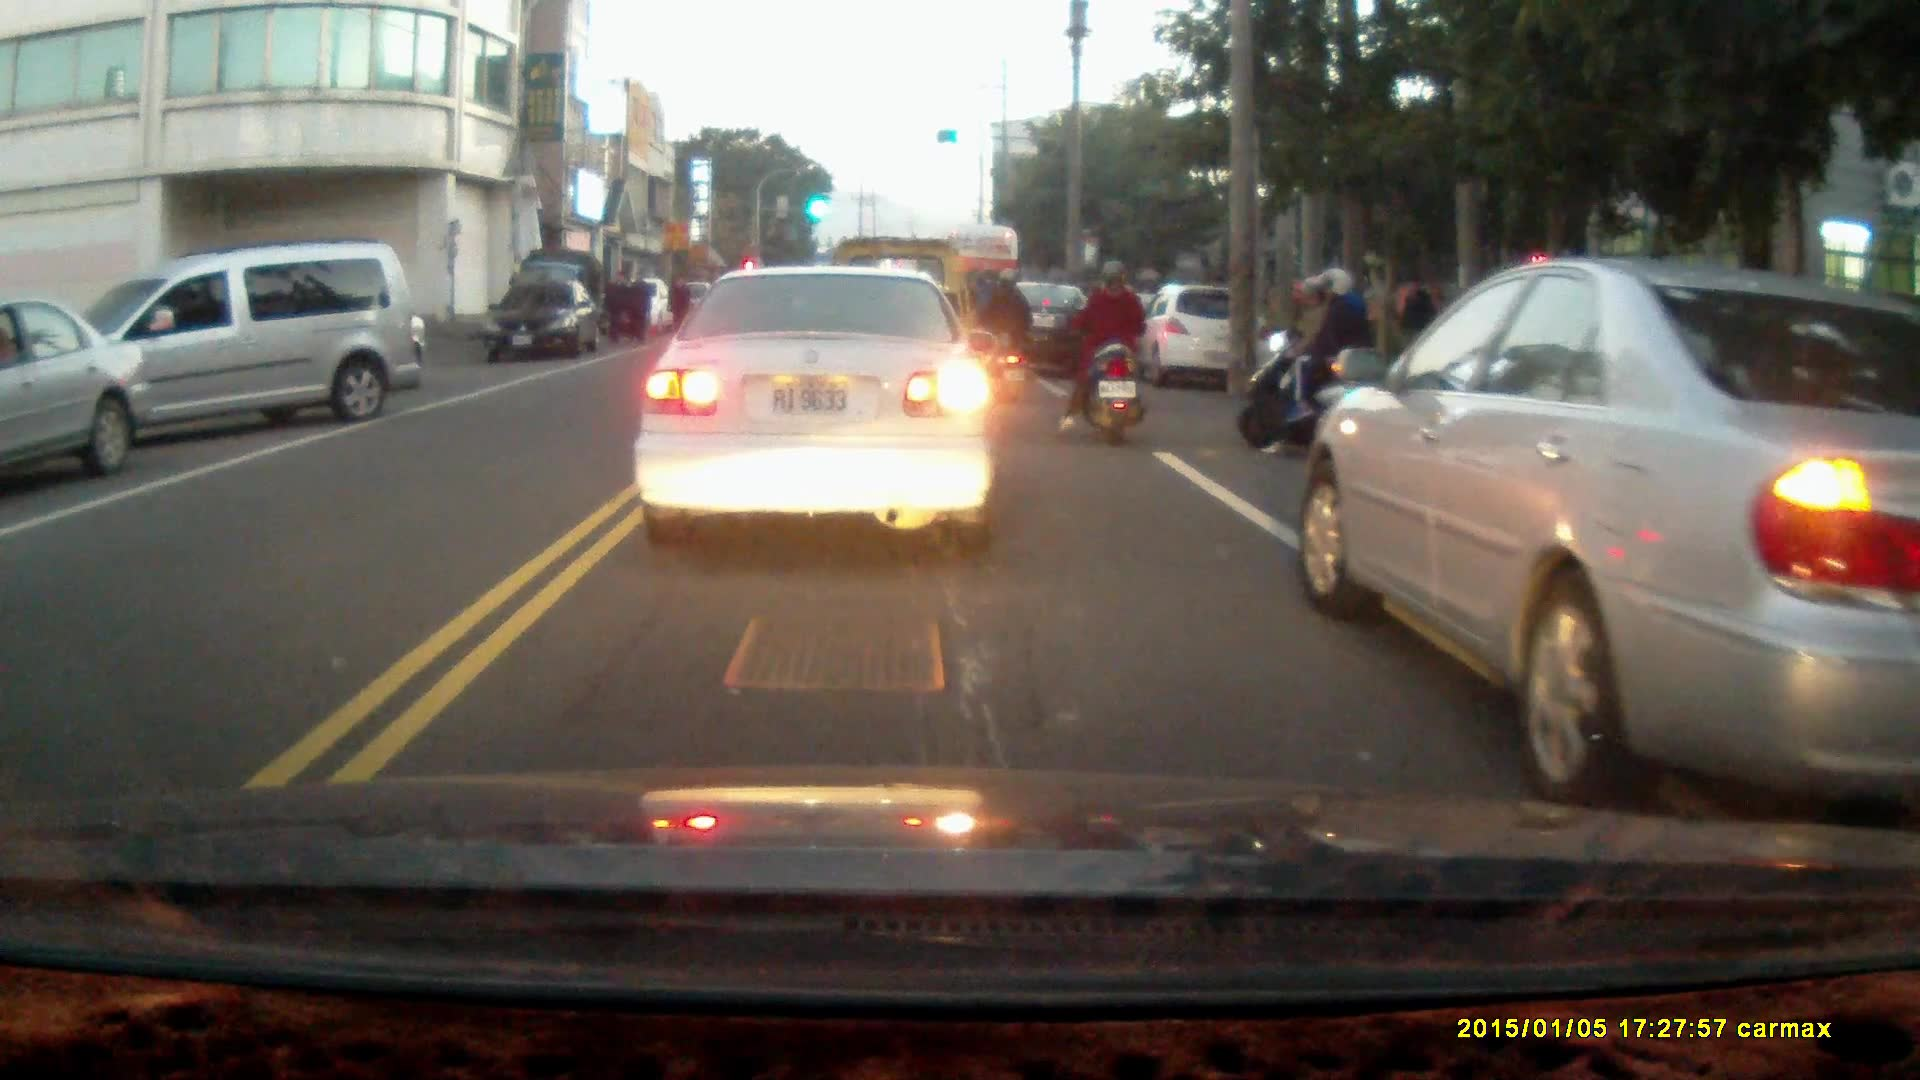pedestrian: (1398, 274, 1433, 363), (601, 271, 630, 349), (624, 272, 650, 349), (665, 272, 693, 341)
rider: (1237, 265, 1382, 460), (1053, 261, 1149, 446), (964, 269, 1029, 395)
vehicle: (1298, 256, 1920, 796), (642, 270, 1000, 567), (48, 248, 416, 457), (1, 299, 151, 483), (1135, 284, 1266, 396), (971, 285, 1110, 383), (489, 279, 609, 365)
